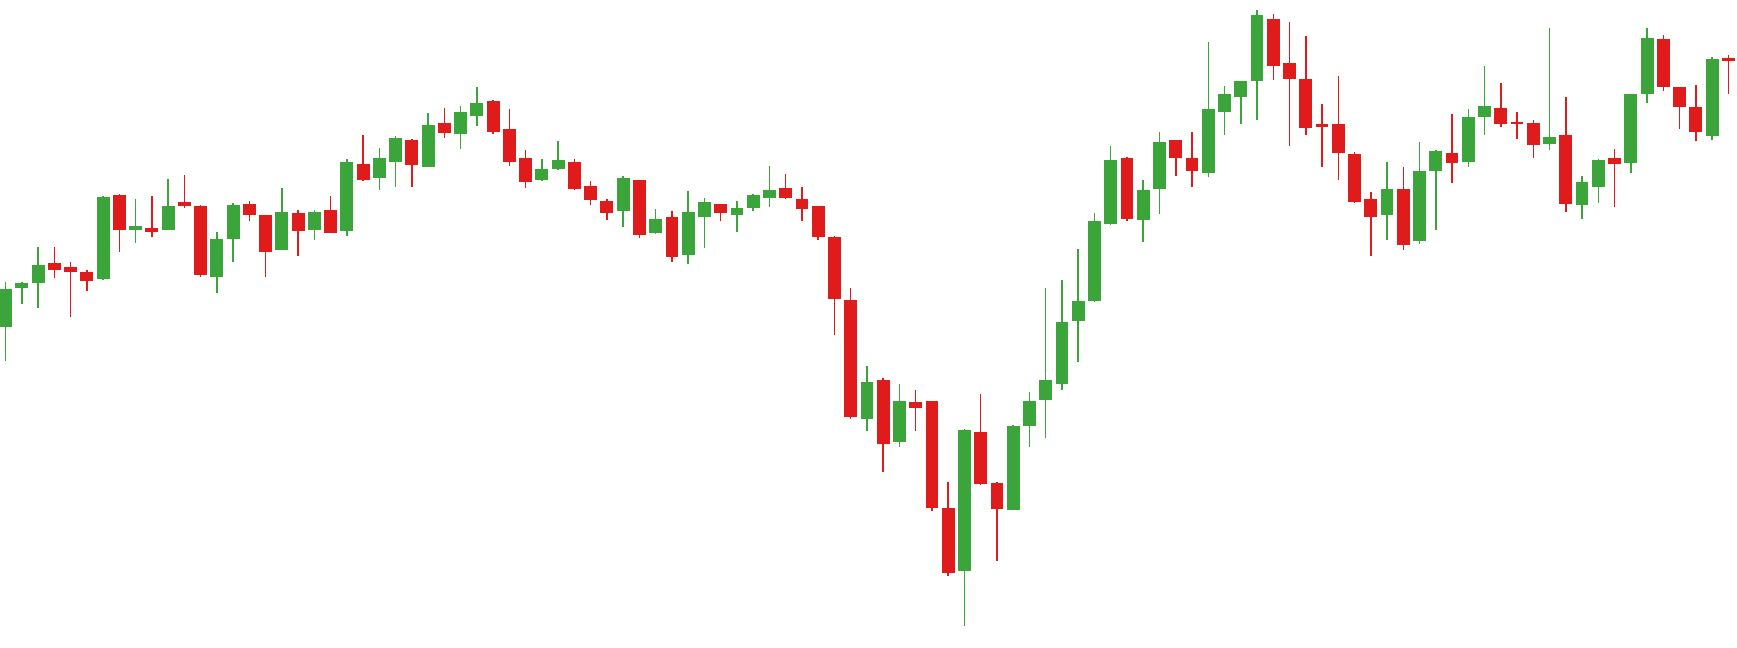buy: (1137, 110, 1396, 259), (93, 204, 224, 297)
